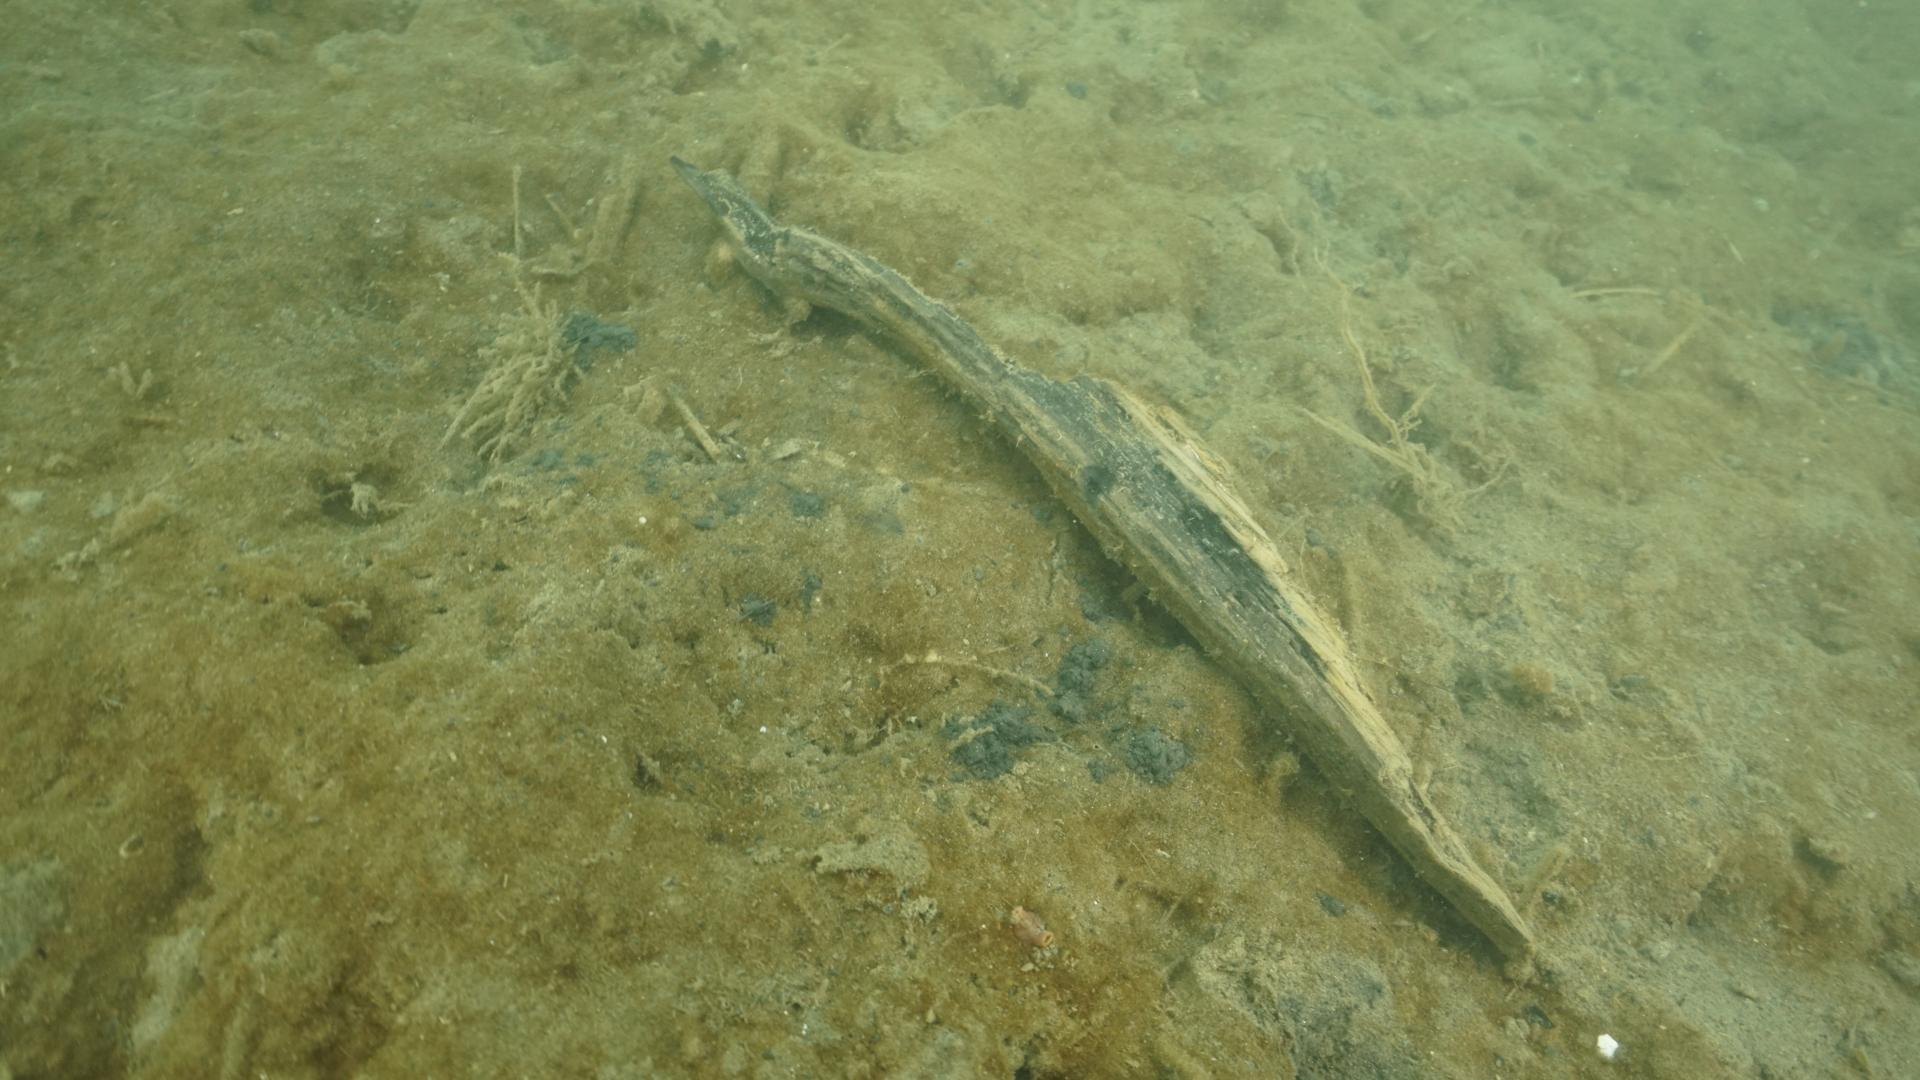wood: (669, 156, 1535, 963)
